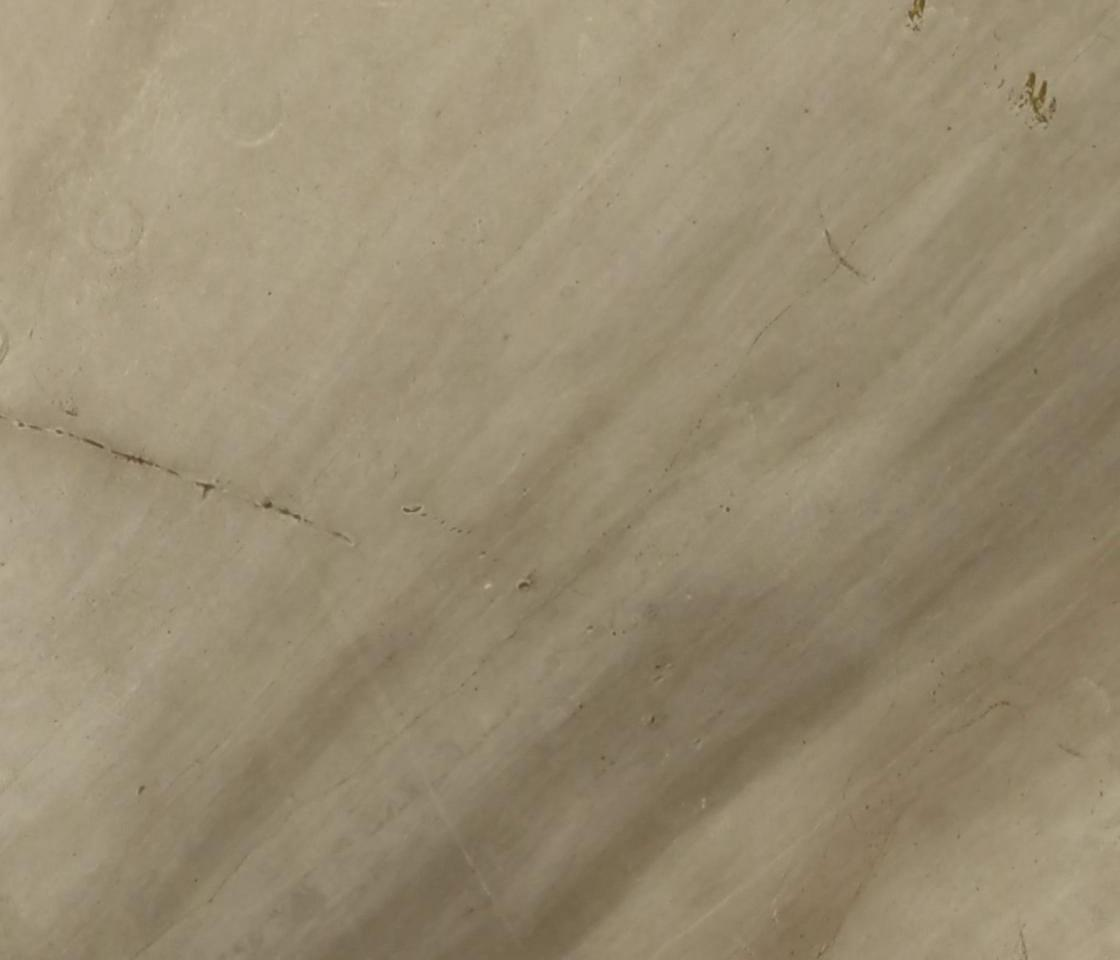scratch: (7, 417, 186, 482)
